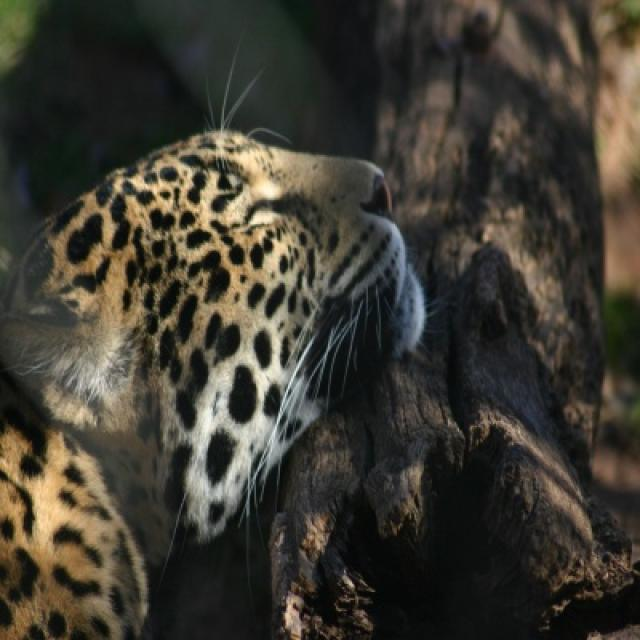Jaguar: (0, 70, 439, 638)
